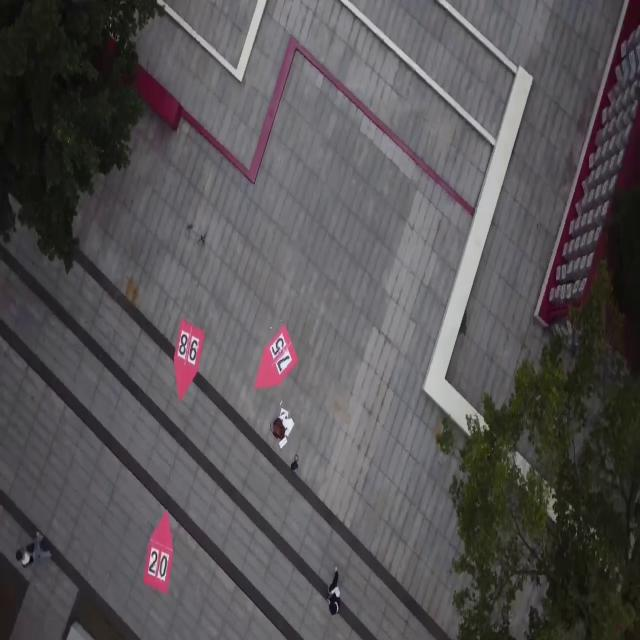-sign-: (252, 312, 308, 396), (170, 311, 210, 408), (140, 504, 178, 598)
